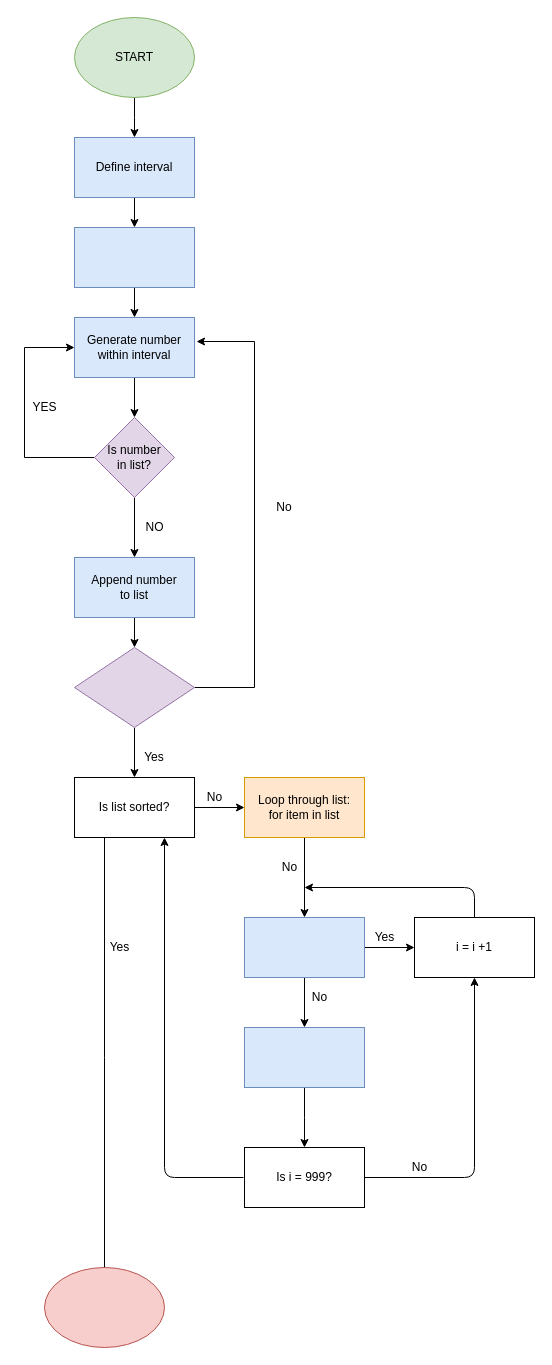
The diagram is 552 pixels wide and 1365 high, and some of its shapes have lost their labels. Here are the shapes that lost their labels. From the top down, the centre of each, then its label:
At [134,257]: "Create empty list".
At [134,687]: "Is length of list 1000?".
At [304,947]: "Is item item(i) smaller than item(i+1)?".
At [304,1057]: "Item(i) and item(i+1) switch positions".
At [104,1307]: "End".
